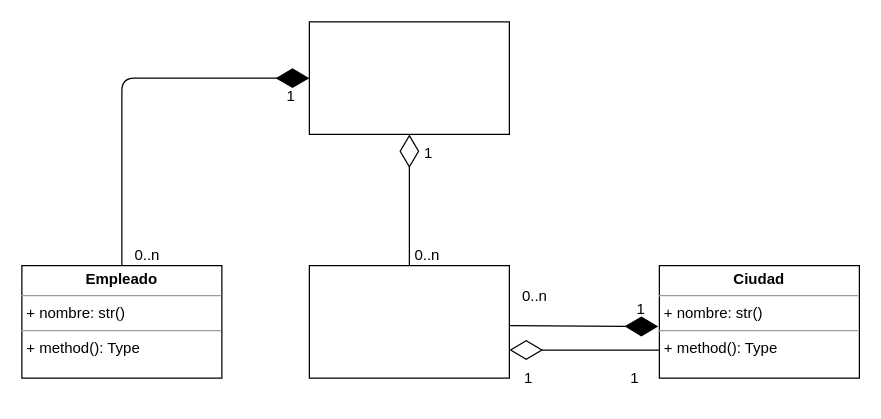
The diagram is 881 pixels wide and 419 high, and some of its shapes have lost their labels. Each missing label, with the centre of its shape:
Edificio + nombre: str() + method(): Type: point 408,321
Empresa + nombre: str() + method(): Type: point 408,77
